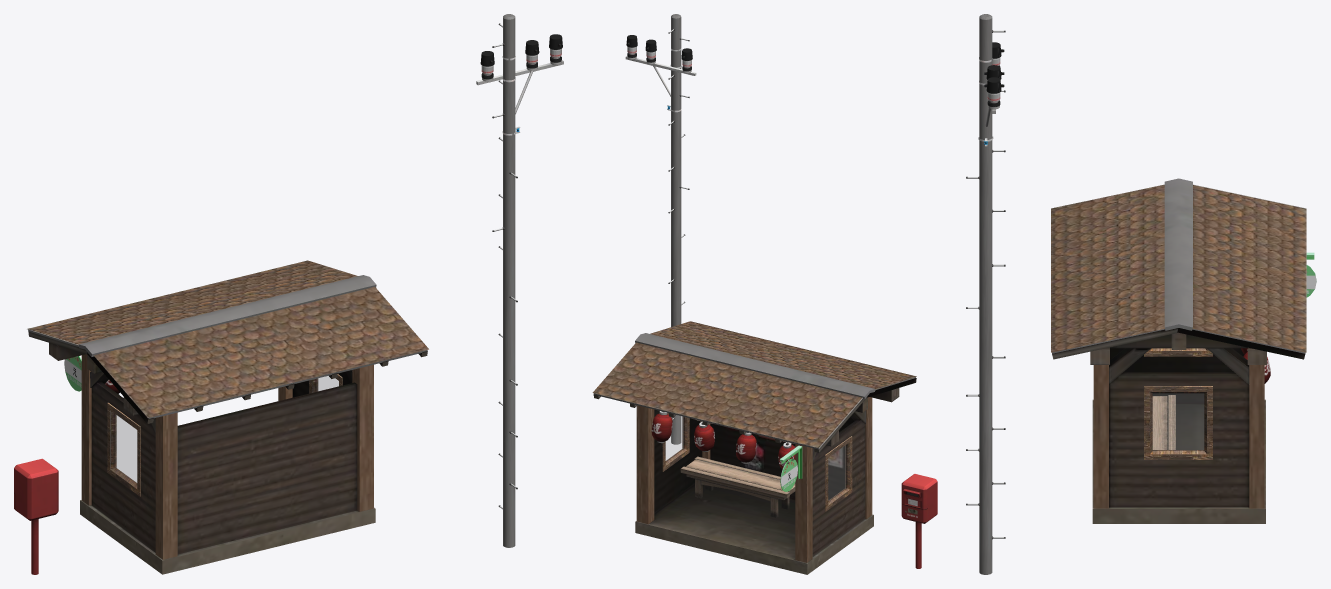
The model's file is kyoto_cityscene_bus_stop.glb.
3 renders of one model, left to right at view 1: azimuth 30°, elevation 25°; view 2: azimuth 150°, elevation 25°; view 3: azimuth 270°, elevation 25°, orthographic. The views are drawn at different scales.
Visible parts, largest first — view 1: Object018_Material #26_0, Object032_Material #65_0, Object033_Material #64_0, Object033_Material #66_0, Object036_Material #64_0; view 2: Object018_Material #26_0, Object032_Material #65_0, Object033_Material #64_0, Box010, Lamp_Material #64_0, Object033_Material #66_0, Object036_Material #64_0, Object059_Material #64_0, Object059_Material #66_0; view 3: Object018_Material #26_0, Object032_Material #65_0, Object059_Material #66_0, Object059_Material #64_0, Box010, Object033_Material #64_0, Object036_Material #64_0, Object024_Material #26_0, Object031_Material #26_0, Object039_Material #64_0.
Boxes of the visible parts, x1,y1,x2,y2 form: Object018_Material #26_0: (27, 260, 428, 574); Object032_Material #65_0: (503, 14, 515, 547); Object033_Material #64_0: (14, 356, 140, 574); Object033_Material #66_0: (115, 414, 136, 482); Object036_Material #64_0: (480, 34, 562, 81); Object018_Material #26_0: (592, 321, 916, 574); Object032_Material #65_0: (671, 14, 681, 444); Object033_Material #64_0: (779, 436, 937, 568); Box010: (680, 456, 795, 517); Lamp_Material #64_0: (651, 411, 795, 468); Object033_Material #66_0: (828, 445, 845, 500); Object036_Material #64_0: (626, 35, 692, 72); Object059_Material #64_0: (662, 413, 689, 471); Object059_Material #66_0: (666, 415, 683, 460); Object018_Material #26_0: (1051, 178, 1306, 523); Object032_Material #65_0: (979, 14, 992, 574); Object059_Material #66_0: (1153, 393, 1203, 449); Object059_Material #64_0: (1144, 386, 1212, 459); Box010: (1152, 395, 1175, 449); Object033_Material #64_0: (1144, 252, 1316, 356); Object036_Material #64_0: (984, 42, 1004, 109); Object024_Material #26_0: (1177, 328, 1305, 359); Object031_Material #26_0: (1052, 328, 1178, 359); Object039_Material #64_0: (966, 30, 1005, 539).
Size of the model in its own units: 804 by 883 by 504.
Materials: 5 (4 with a texture image).
